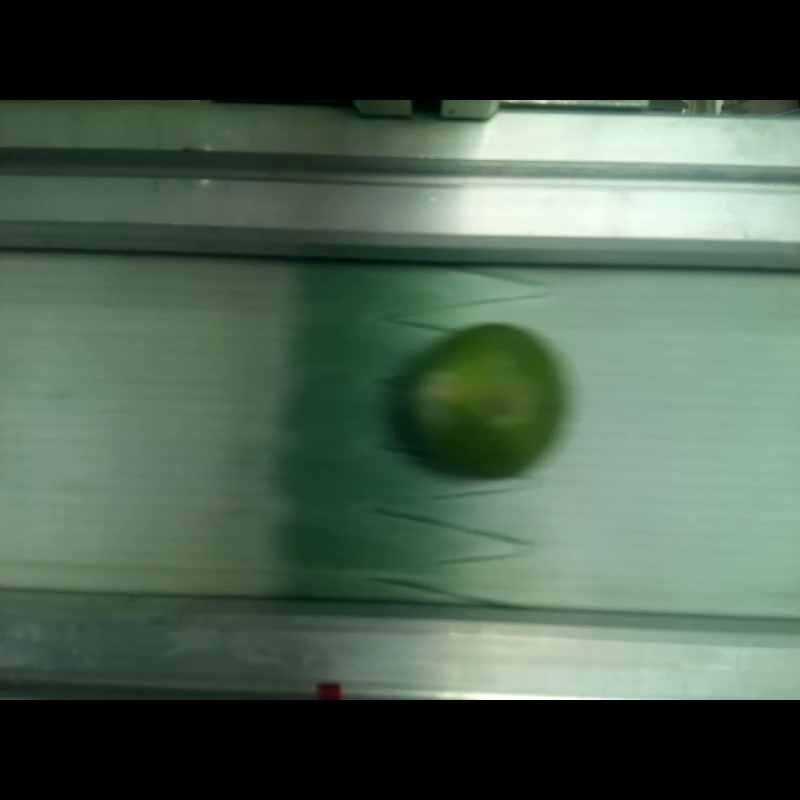lime: (408, 324, 557, 475)
